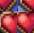heart: (0, 11, 17, 33), (17, 11, 34, 33), (0, 0, 17, 11), (17, 0, 34, 11)
